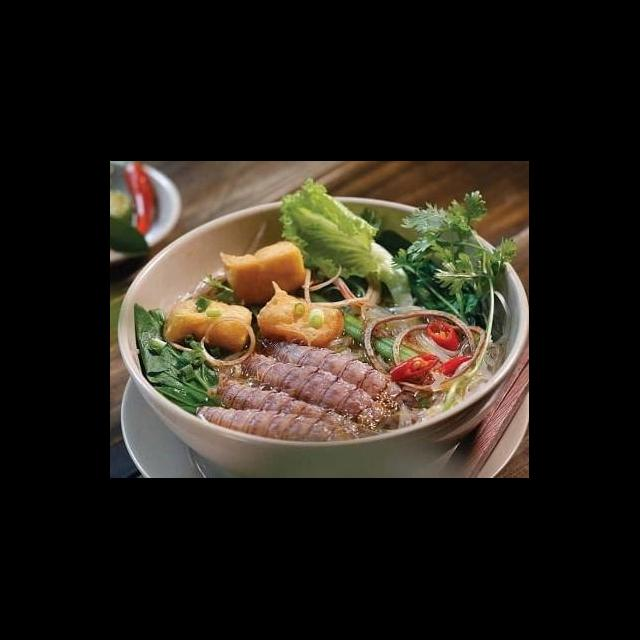dau hu: (252, 278, 350, 354), (218, 238, 310, 310), (160, 294, 256, 356)
tom tit: (236, 350, 392, 430), (258, 336, 406, 410), (205, 371, 368, 438), (192, 402, 360, 446)
